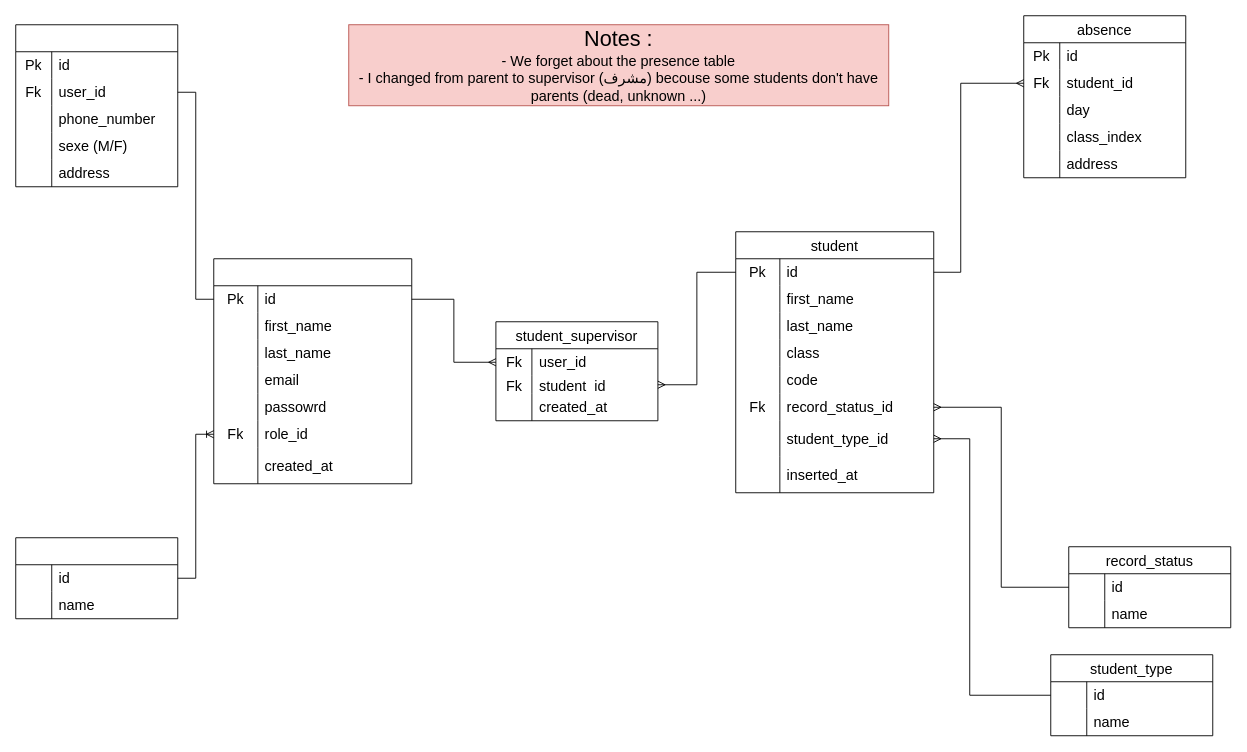
This 1247x752 diagram has some shape labels left out. Each missing label, with the box of its shape:
role: (15, 537, 178, 619)
supervisor_info: (15, 24, 178, 187)
user: (213, 258, 412, 484)
